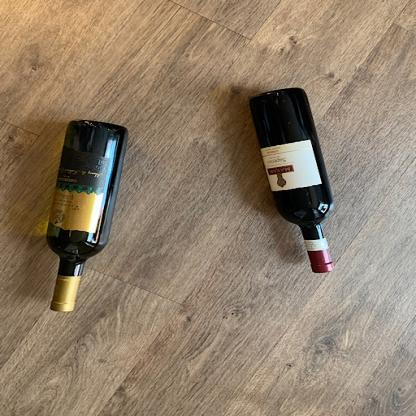trash: (245, 86, 339, 276), (44, 122, 132, 312)
